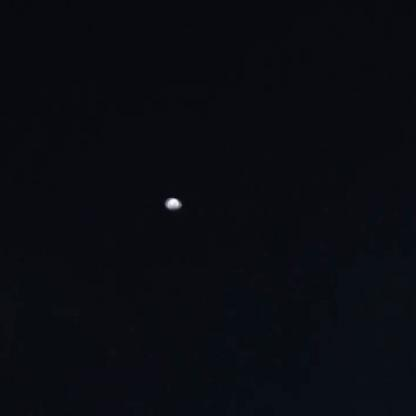ball: (154, 188, 188, 212)
